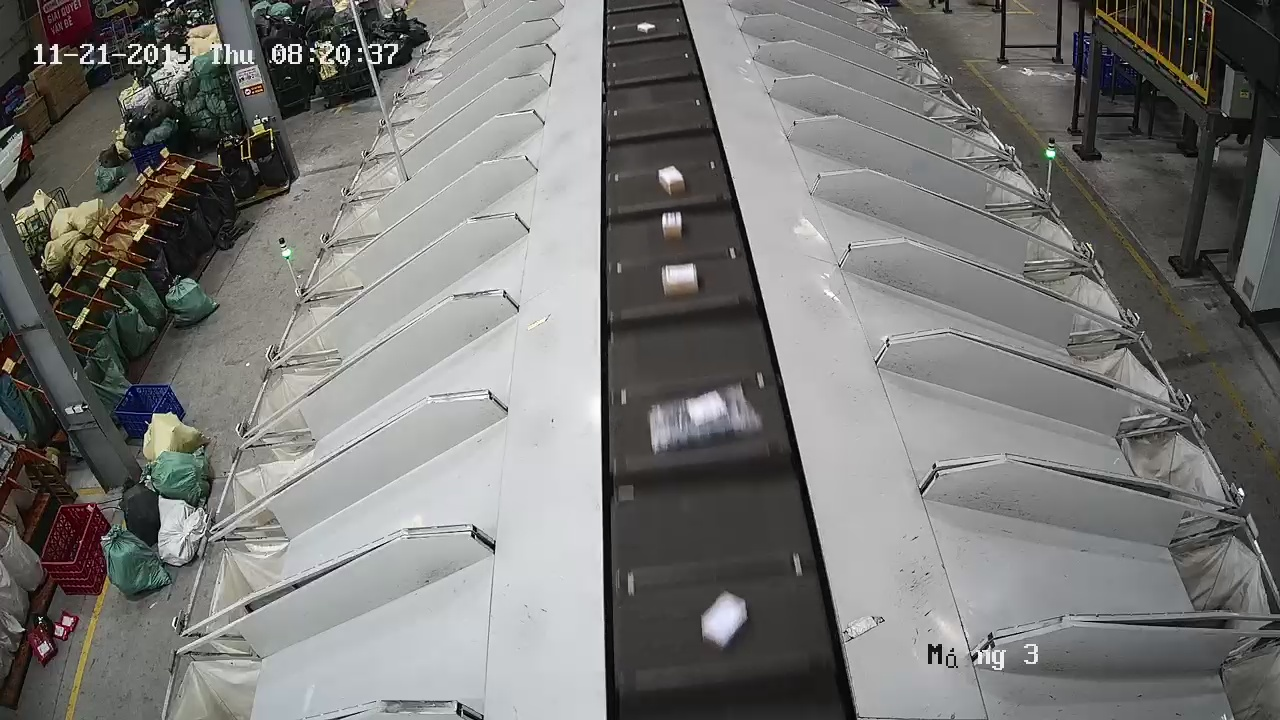parcel: (646, 380, 767, 460)
